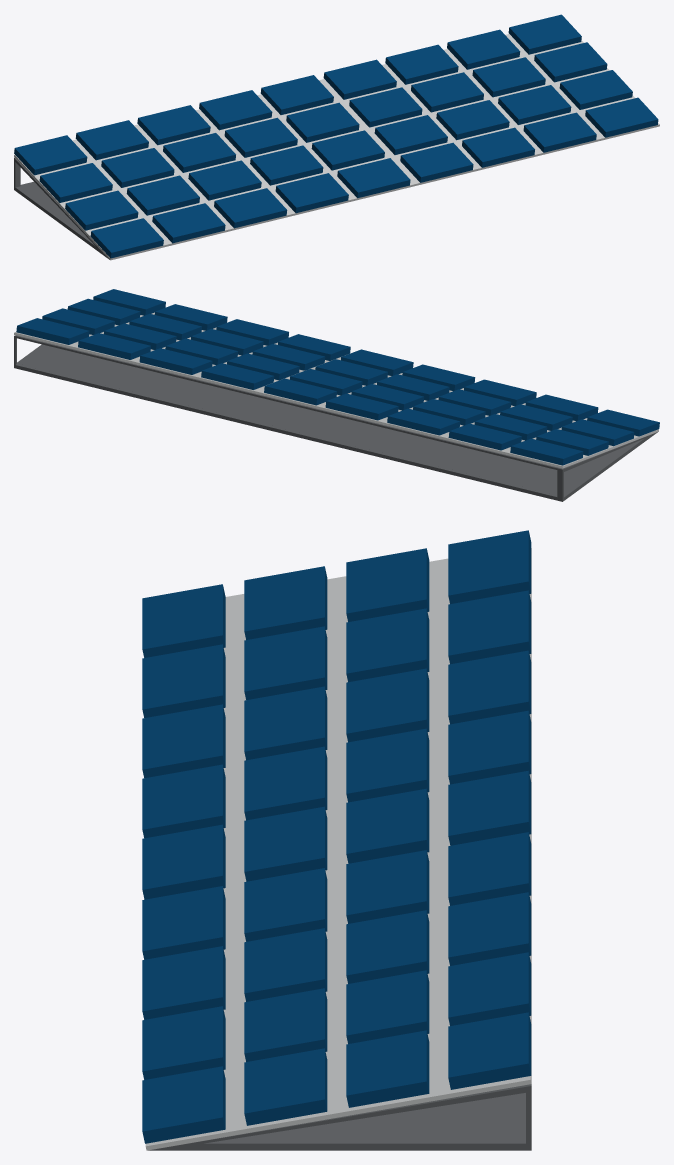
File: solar-panel-4x9-small.glb
The picture shows the model from 3 angles, top to bottom: view 1: azimuth 30°, elevation 25°; view 2: azimuth 150°, elevation 25°; view 3: azimuth 270°, elevation 25°; orthographic projection. The views are drawn at different scales.
Visible parts, largest first — view 1: Mesh_Mesh_head_geo.001_lambert2SG.001; view 2: Mesh_Mesh_head_geo.001_lambert2SG.001; view 3: Mesh_Mesh_head_geo.001_lambert2SG.001.
Boxes of the visible parts, box(x1,y1,x2,y2) form: Mesh_Mesh_head_geo.001_lambert2SG.001: box(14, 14, 659, 260); Mesh_Mesh_head_geo.001_lambert2SG.001: box(14, 289, 659, 501); Mesh_Mesh_head_geo.001_lambert2SG.001: box(142, 530, 531, 1150).
Size of the model in its own units: 275 by 20.35 by 84.53.
